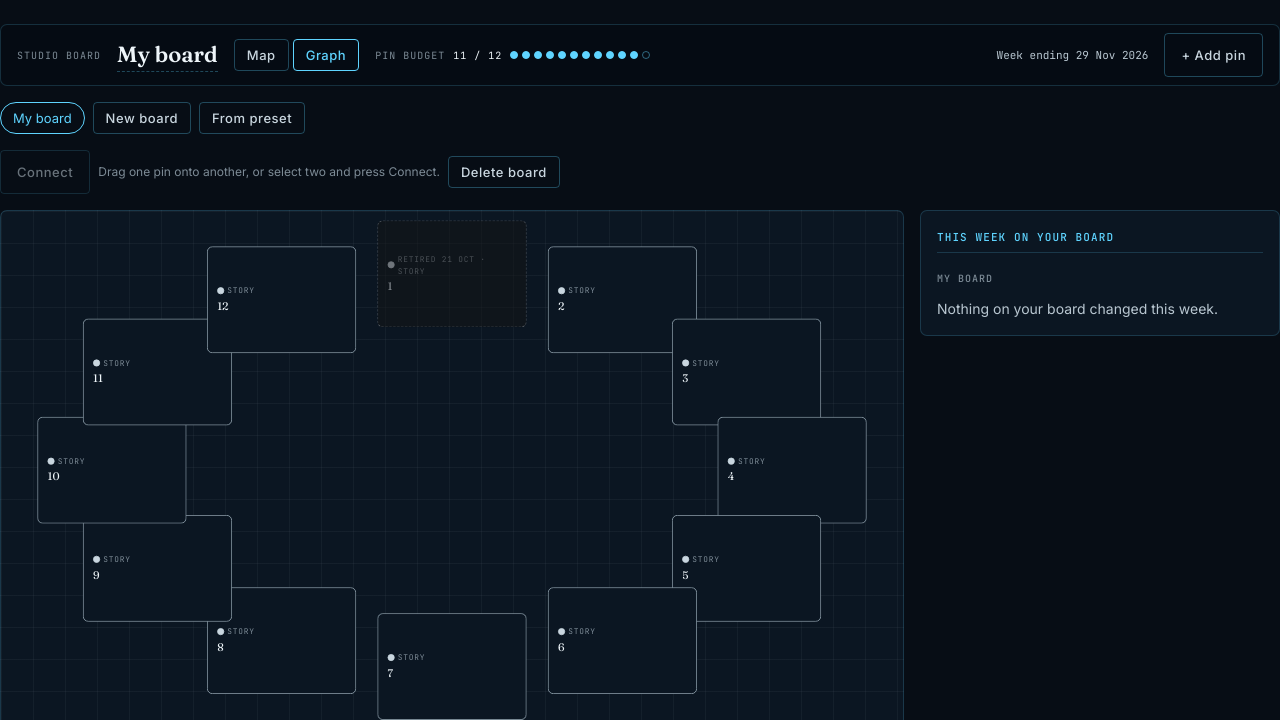
Test: retiring a pin › a retired pin does not block the 12-pin budget
The image size is (1280, 720).
Check: the text "11 / 12" is shown, box [453,48,502,62]
Click the button "+ Add pin": (1214, 55) [1164,33,1263,77]
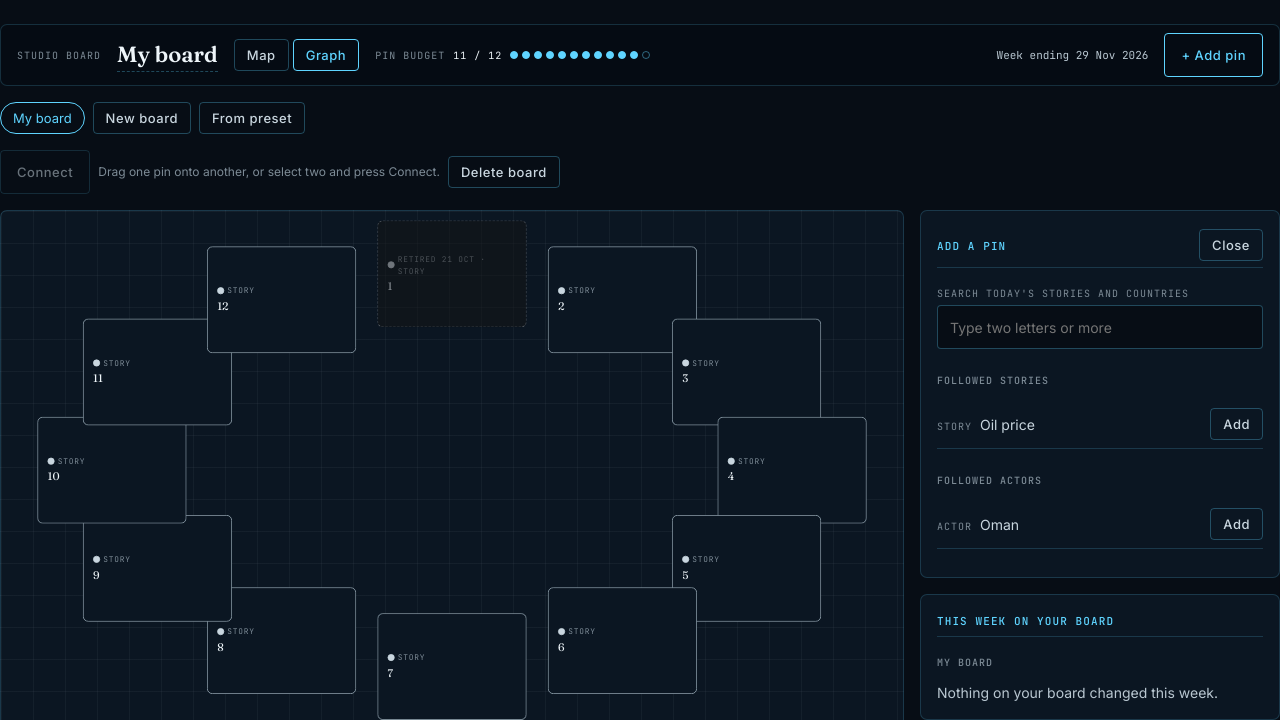
Check: the button with aria-label "Add Oil price" is enabled, box [1210,408,1263,440]
